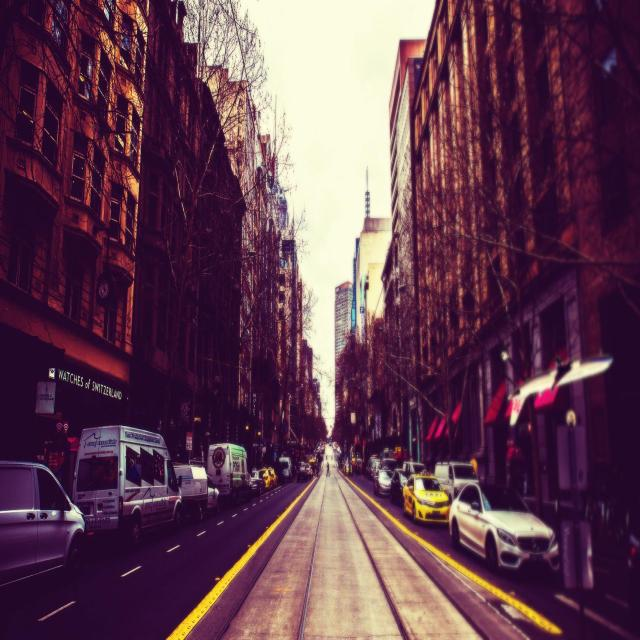airplane: (508, 356, 612, 426)
